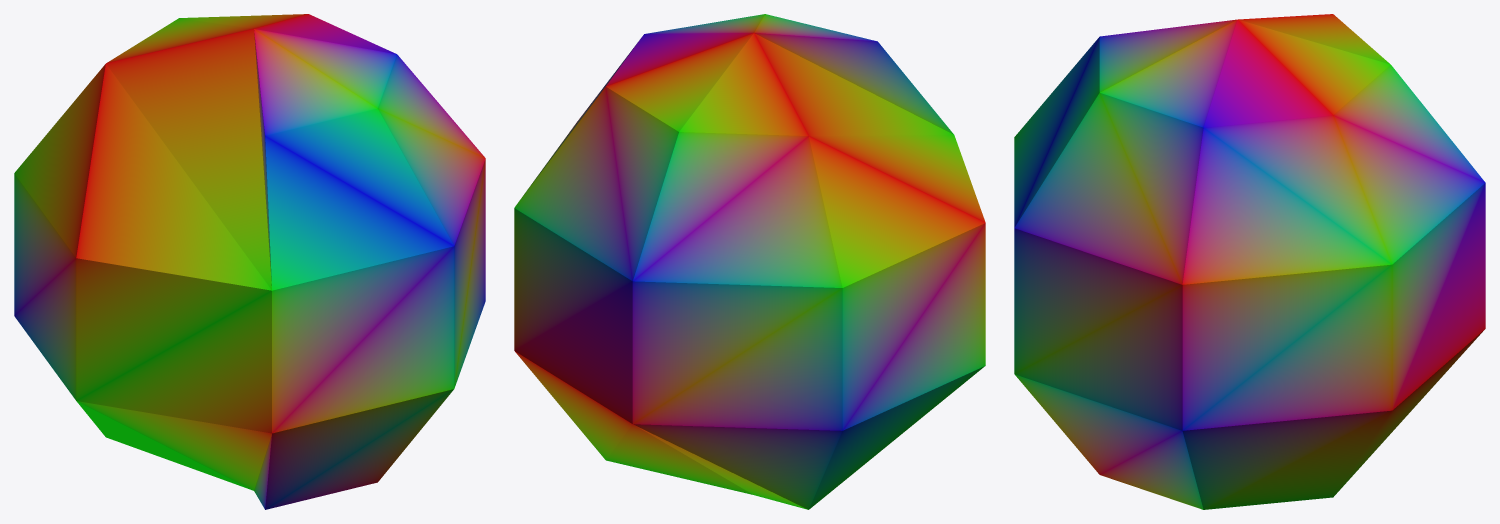
File: re_decimating_conquest_9_retriangulation.obj
3 renders of one model, left to right at view 1: azimuth 30°, elevation 25°; view 2: azimuth 150°, elevation 25°; view 3: azimuth 270°, elevation 25°, orthographic. The views are drawn at different scales.
Size of the model in its own units: 1.85 by 2 by 1.81.
